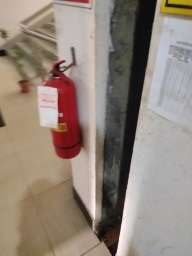fire_extinguisher: (35, 146, 120, 231)
